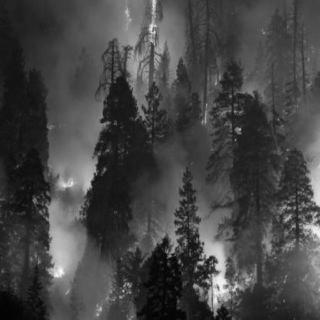Fire: (43, 152, 90, 280), (189, 240, 236, 310), (122, 2, 160, 56), (301, 164, 320, 248)
